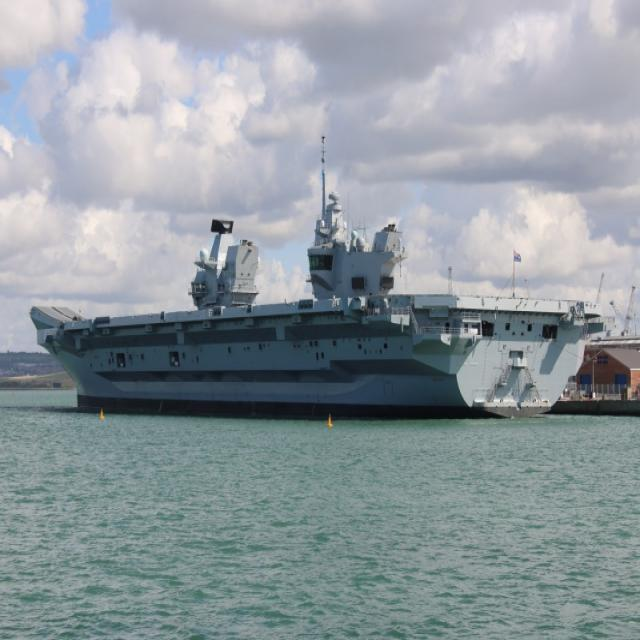Portanaves: (20, 128, 598, 419)
